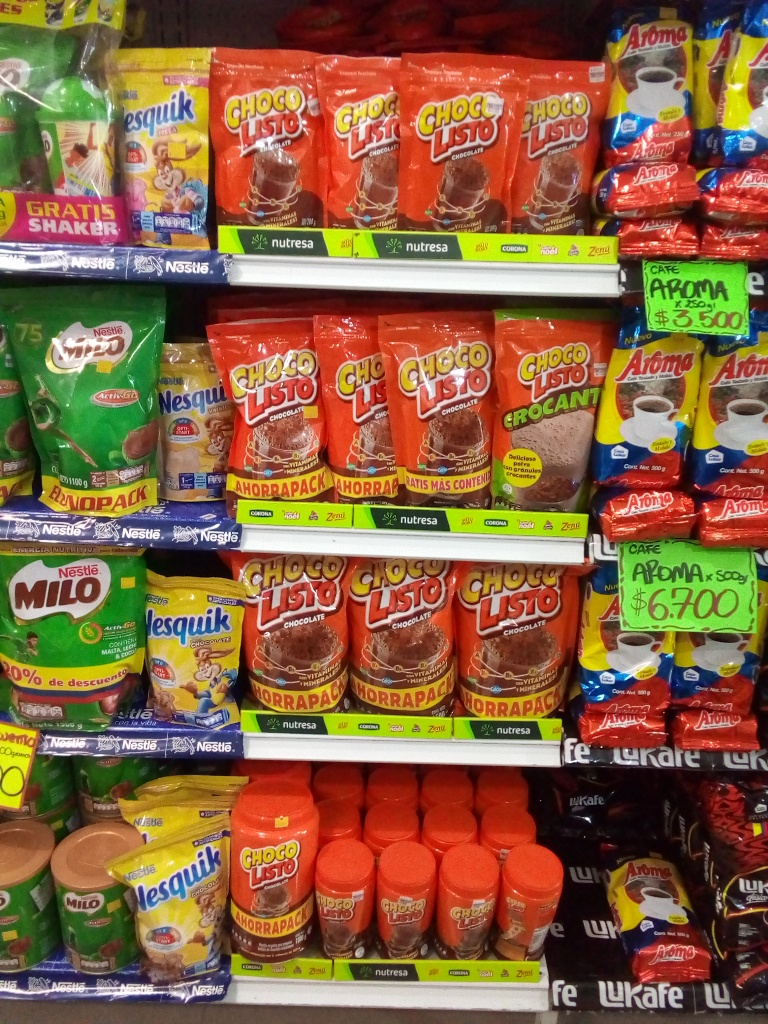COL0170102DYP50000: (477, 312, 610, 512)
COL0170103DYP1,500: (224, 544, 351, 717)
COL0170103DYP44000: (210, 321, 334, 502)
COL0170103TRR00100: (229, 782, 323, 969)
COL0170103TRR30000: (320, 836, 375, 961)
COL0170303DYP20000: (139, 567, 246, 730)
COL0170305DYP20000: (100, 41, 217, 257)
COL0170306DYP20000: (153, 341, 235, 506)
